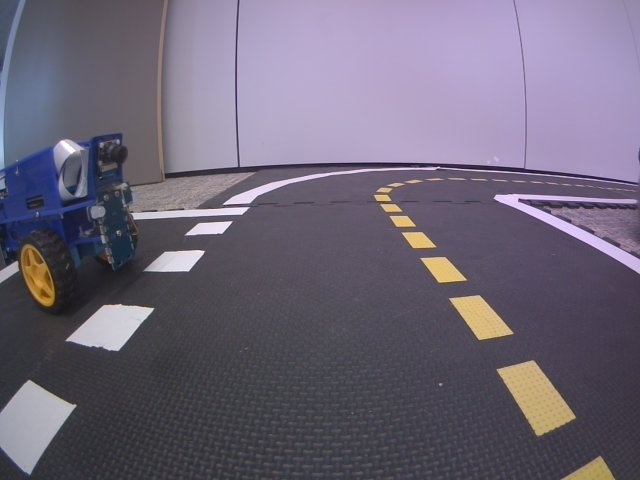Bot: (0, 131, 140, 316)
occupiedSlot: (0, 208, 250, 480)
